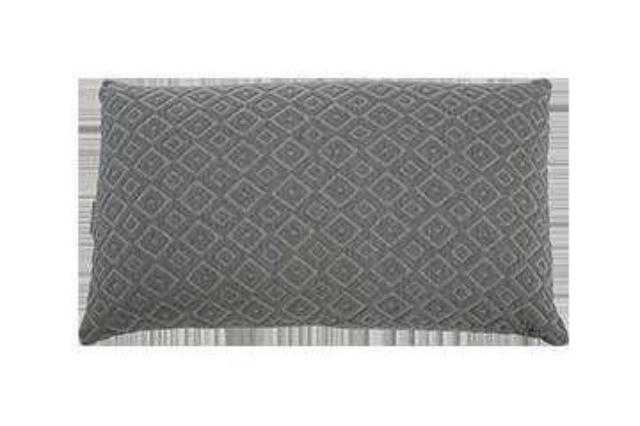pillow: (77, 77, 567, 347)
